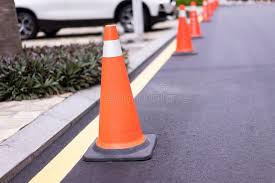car: (1, 1, 176, 32)
cone: (81, 26, 158, 163), (173, 4, 193, 55), (187, 2, 203, 38)
